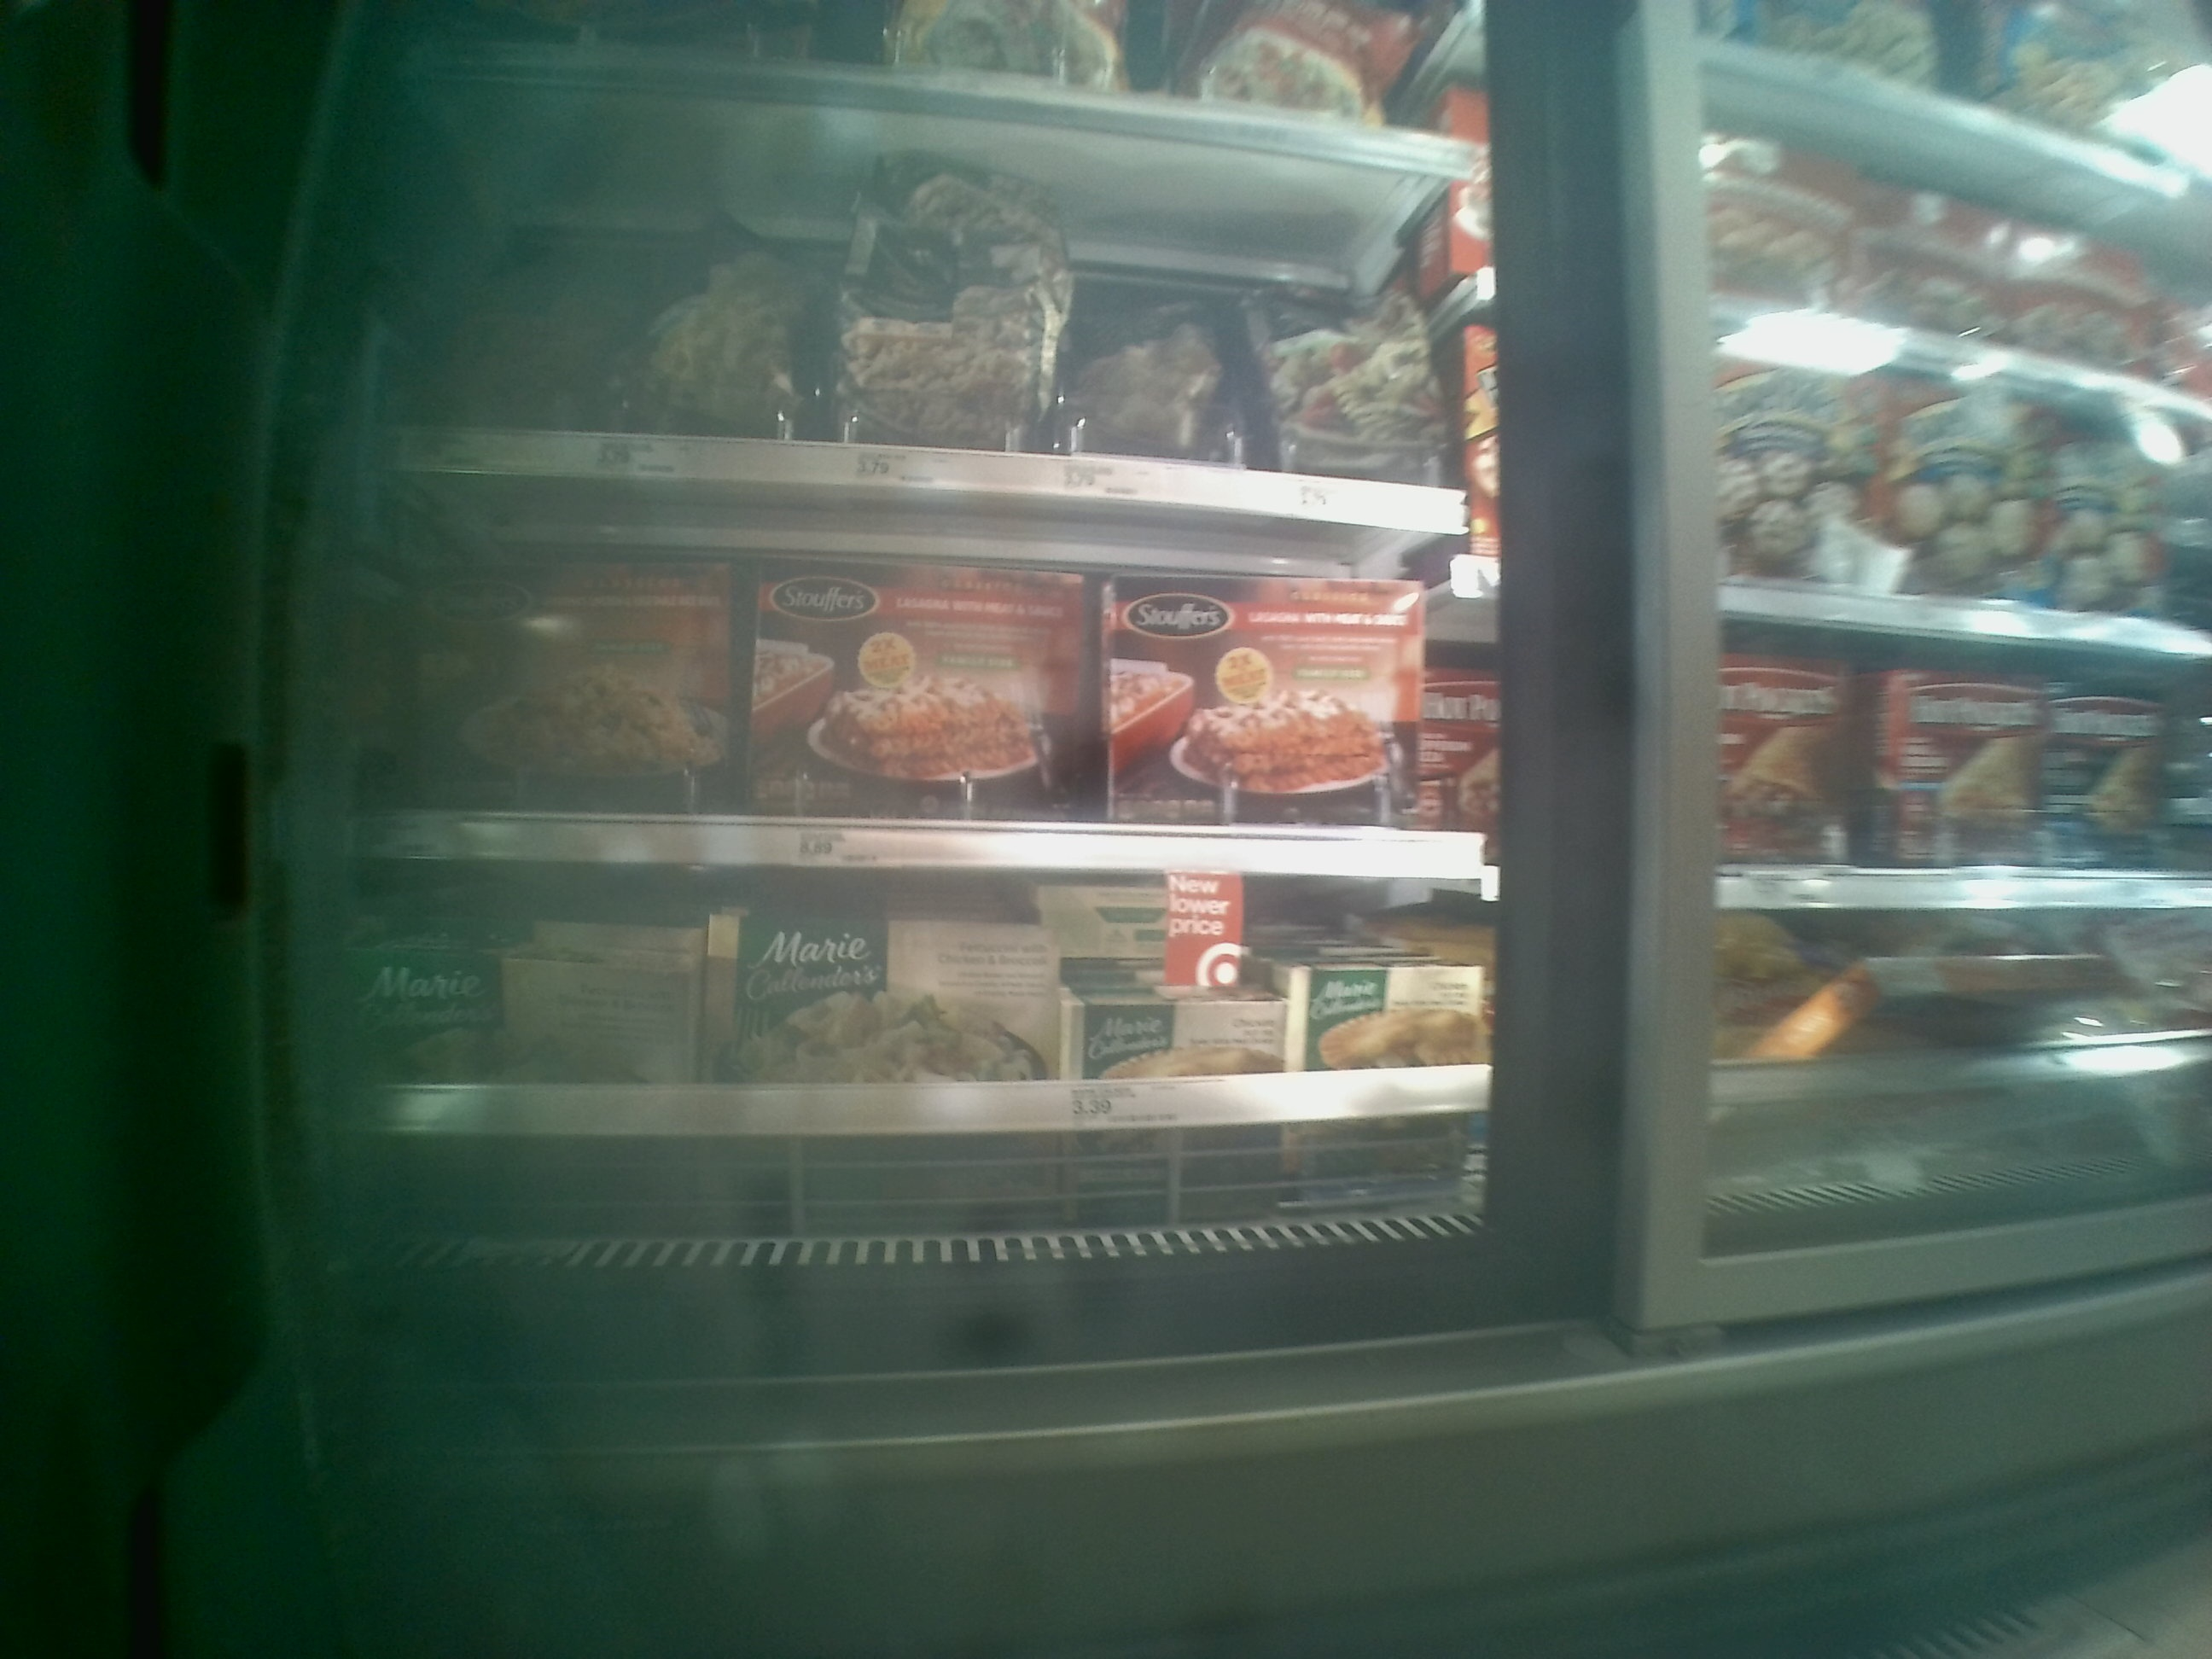shelf: (348, 532, 1487, 877), (369, 223, 1491, 533), (340, 897, 1486, 1134)
